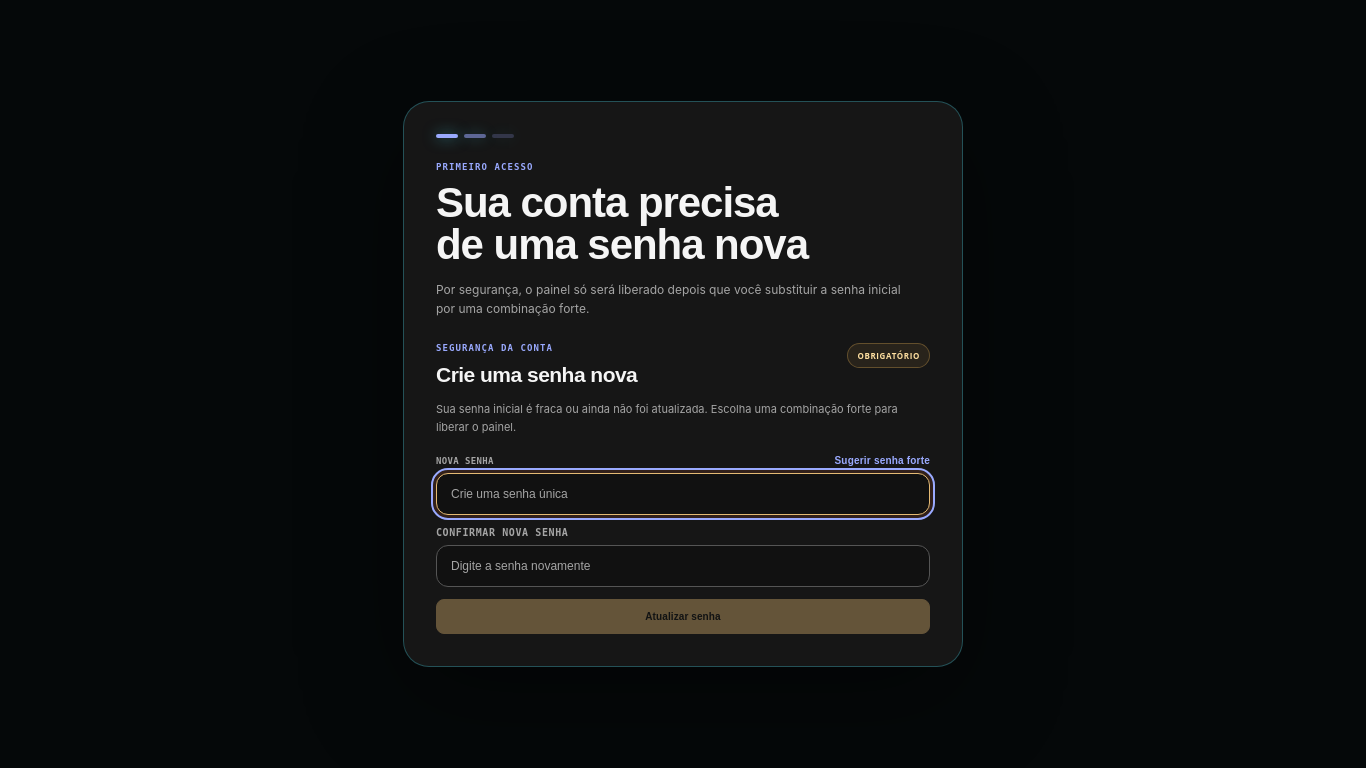
Test: ProfilePage › preenche os campos com uma sugestão forte e permite visualizá-la
Click the button "Sugerir senha forte": [882, 461] box [834,455,930,466]
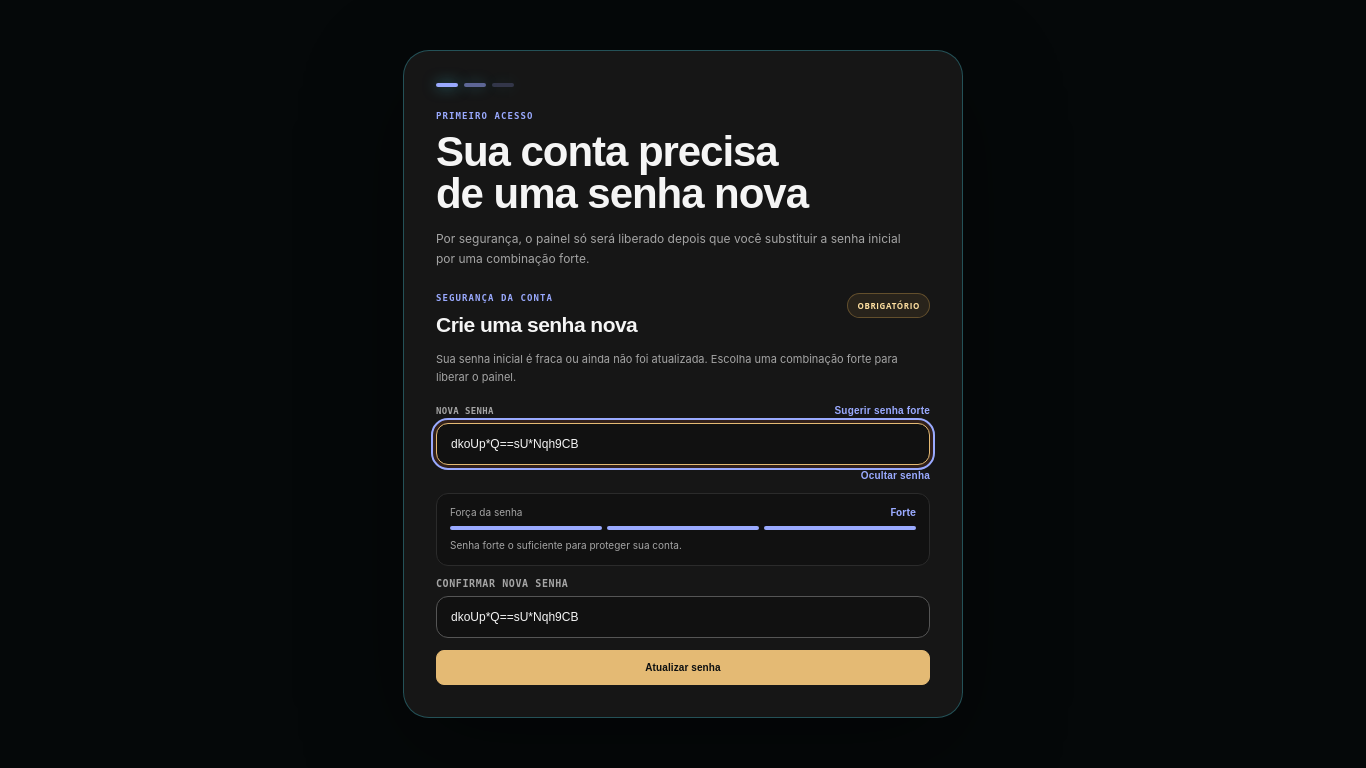
Now the button "Ocultar senha" is shown, box [861,470,930,481]
Now the button "Atualizar senha" is enabled, box [436,650,930,685]
